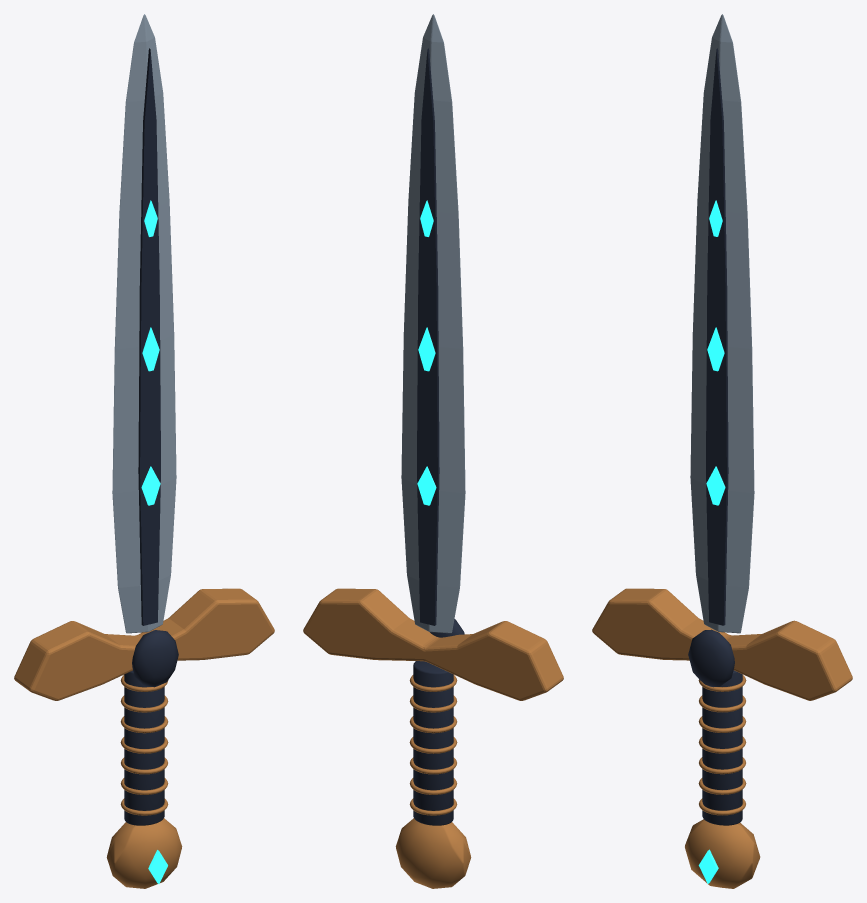
The model's file is aegis_fang.glb.
3 renders of one model, left to right at view 1: azimuth 30°, elevation 25°; view 2: azimuth 150°, elevation 25°; view 3: azimuth 330°, elevation 25°, orthographic.
Parts seen in each view (by area): view 1: SM_Aegis_Fang; view 2: SM_Aegis_Fang; view 3: SM_Aegis_Fang.
Part boxes in pixels (x1,y1,x2,y2): SM_Aegis_Fang: [14, 14, 274, 888]; SM_Aegis_Fang: [303, 14, 563, 888]; SM_Aegis_Fang: [592, 14, 852, 888].
Size of the model in its own units: 0.5351 by 1.82 by 0.115.
